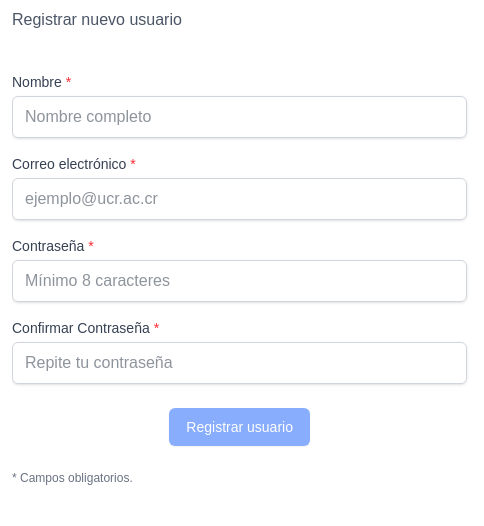
Test: RegisterUser Component › validates email format correctly
Type "invalid-email" into the field labelled "Correo electrónico *". click: (240, 199)
box: [12, 178, 467, 220]
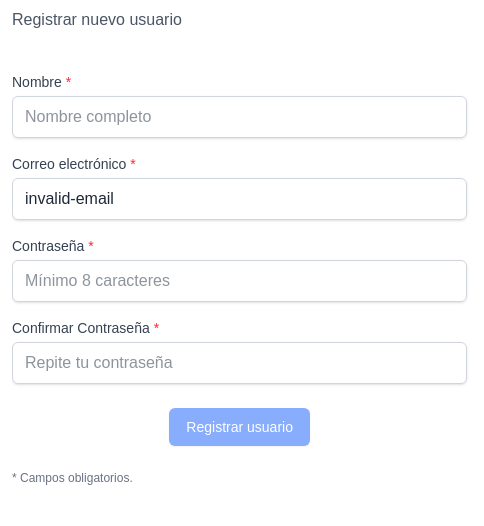
Leave the field labelled "Correo electrónico *", box [12, 178, 467, 220]
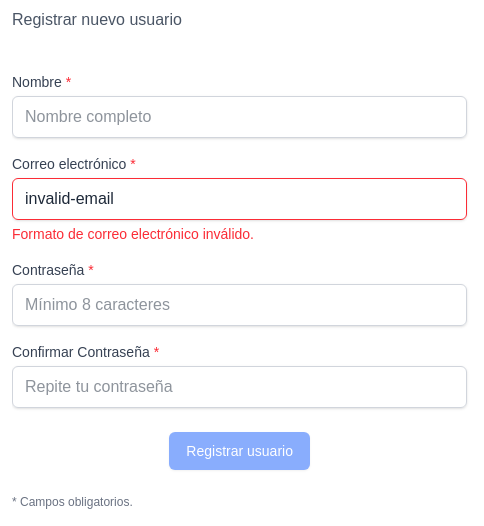
Expected: the text "Formato de correo electrónico inválido." is shown, [12, 226, 254, 242]
